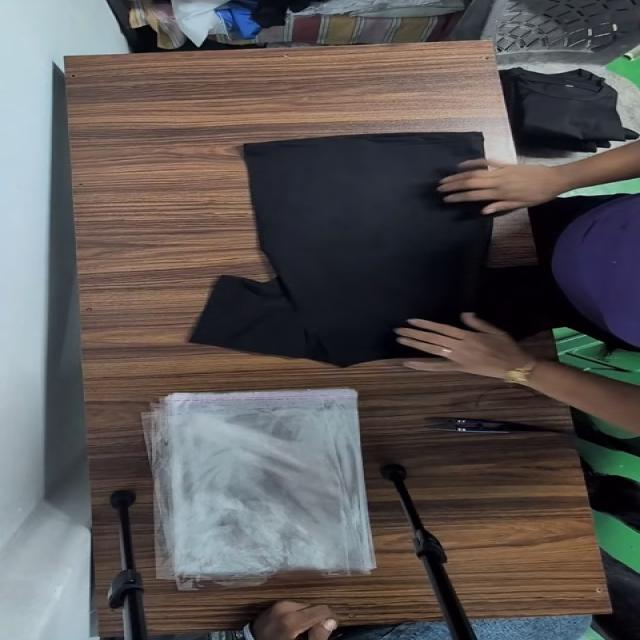new-garment: (191, 132, 491, 366)
